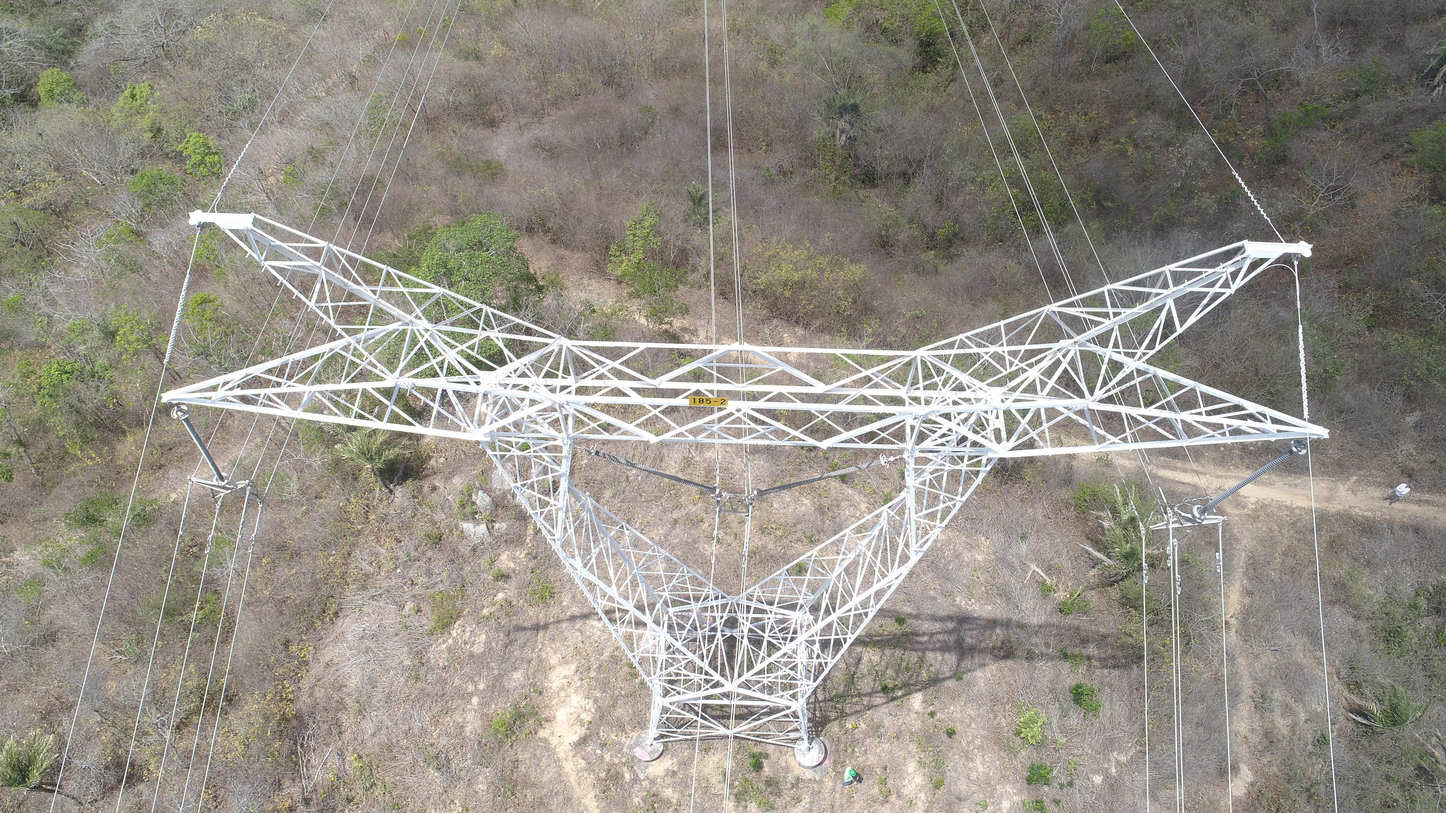power_tower: (153, 210, 1331, 772)
